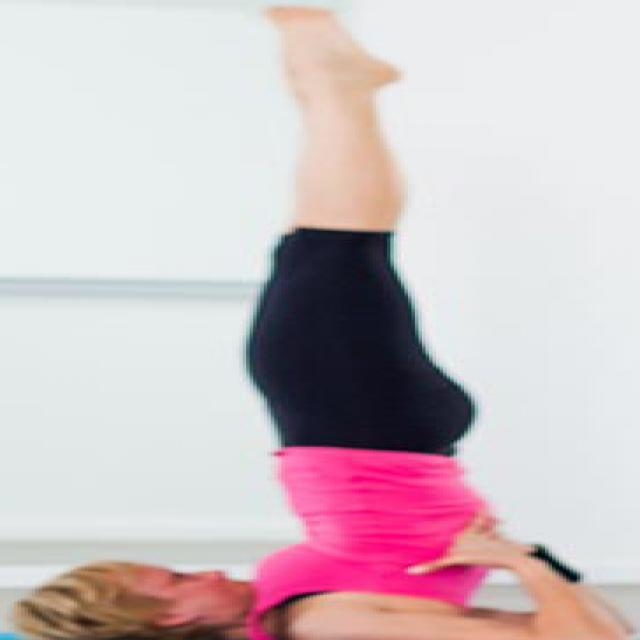yoga-pose shoulderstand: (8, 2, 636, 640)
